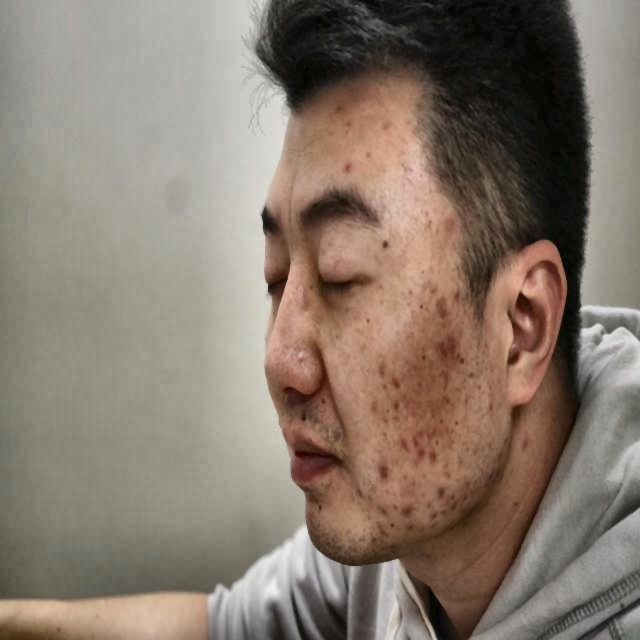pustule: (373, 454, 394, 486), (437, 202, 457, 232), (449, 278, 465, 309), (460, 485, 477, 514), (448, 332, 463, 363), (384, 115, 400, 143), (374, 517, 391, 542), (429, 438, 442, 470), (432, 288, 446, 317), (431, 477, 450, 498), (404, 516, 422, 537), (391, 369, 404, 394), (399, 499, 418, 516), (377, 353, 388, 382), (443, 495, 458, 516), (416, 443, 426, 470), (343, 151, 353, 175)
